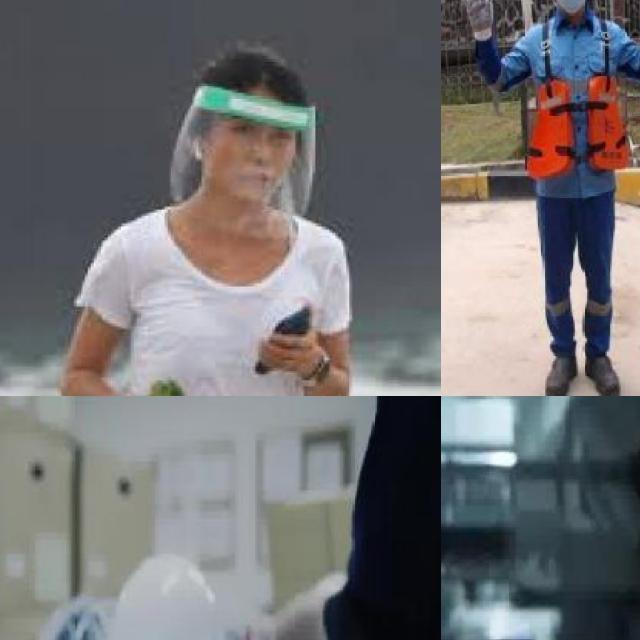apron: (460, 0, 497, 42)
